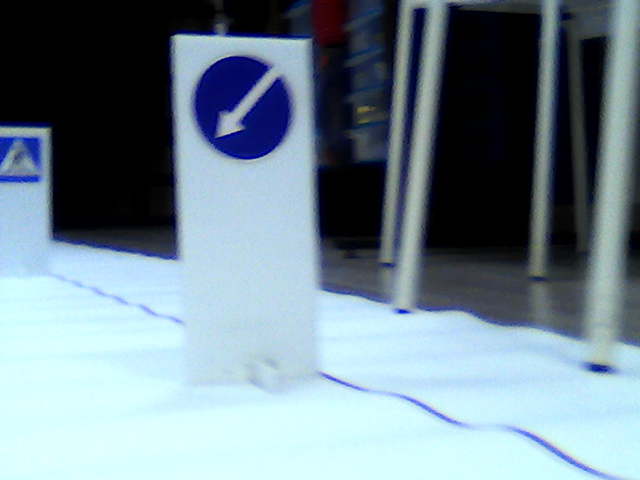pesh: (1, 137, 42, 185)
prep: (191, 55, 296, 162)
